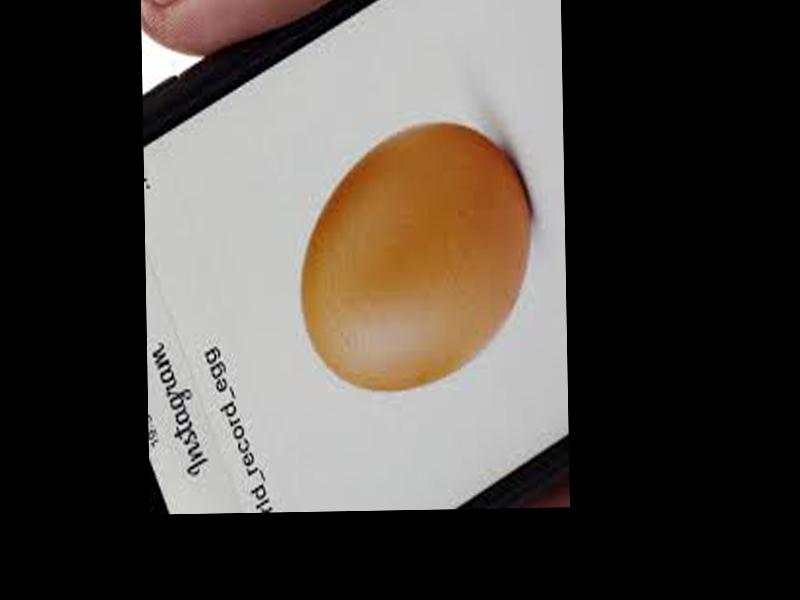Eggs: (298, 121, 532, 392)
